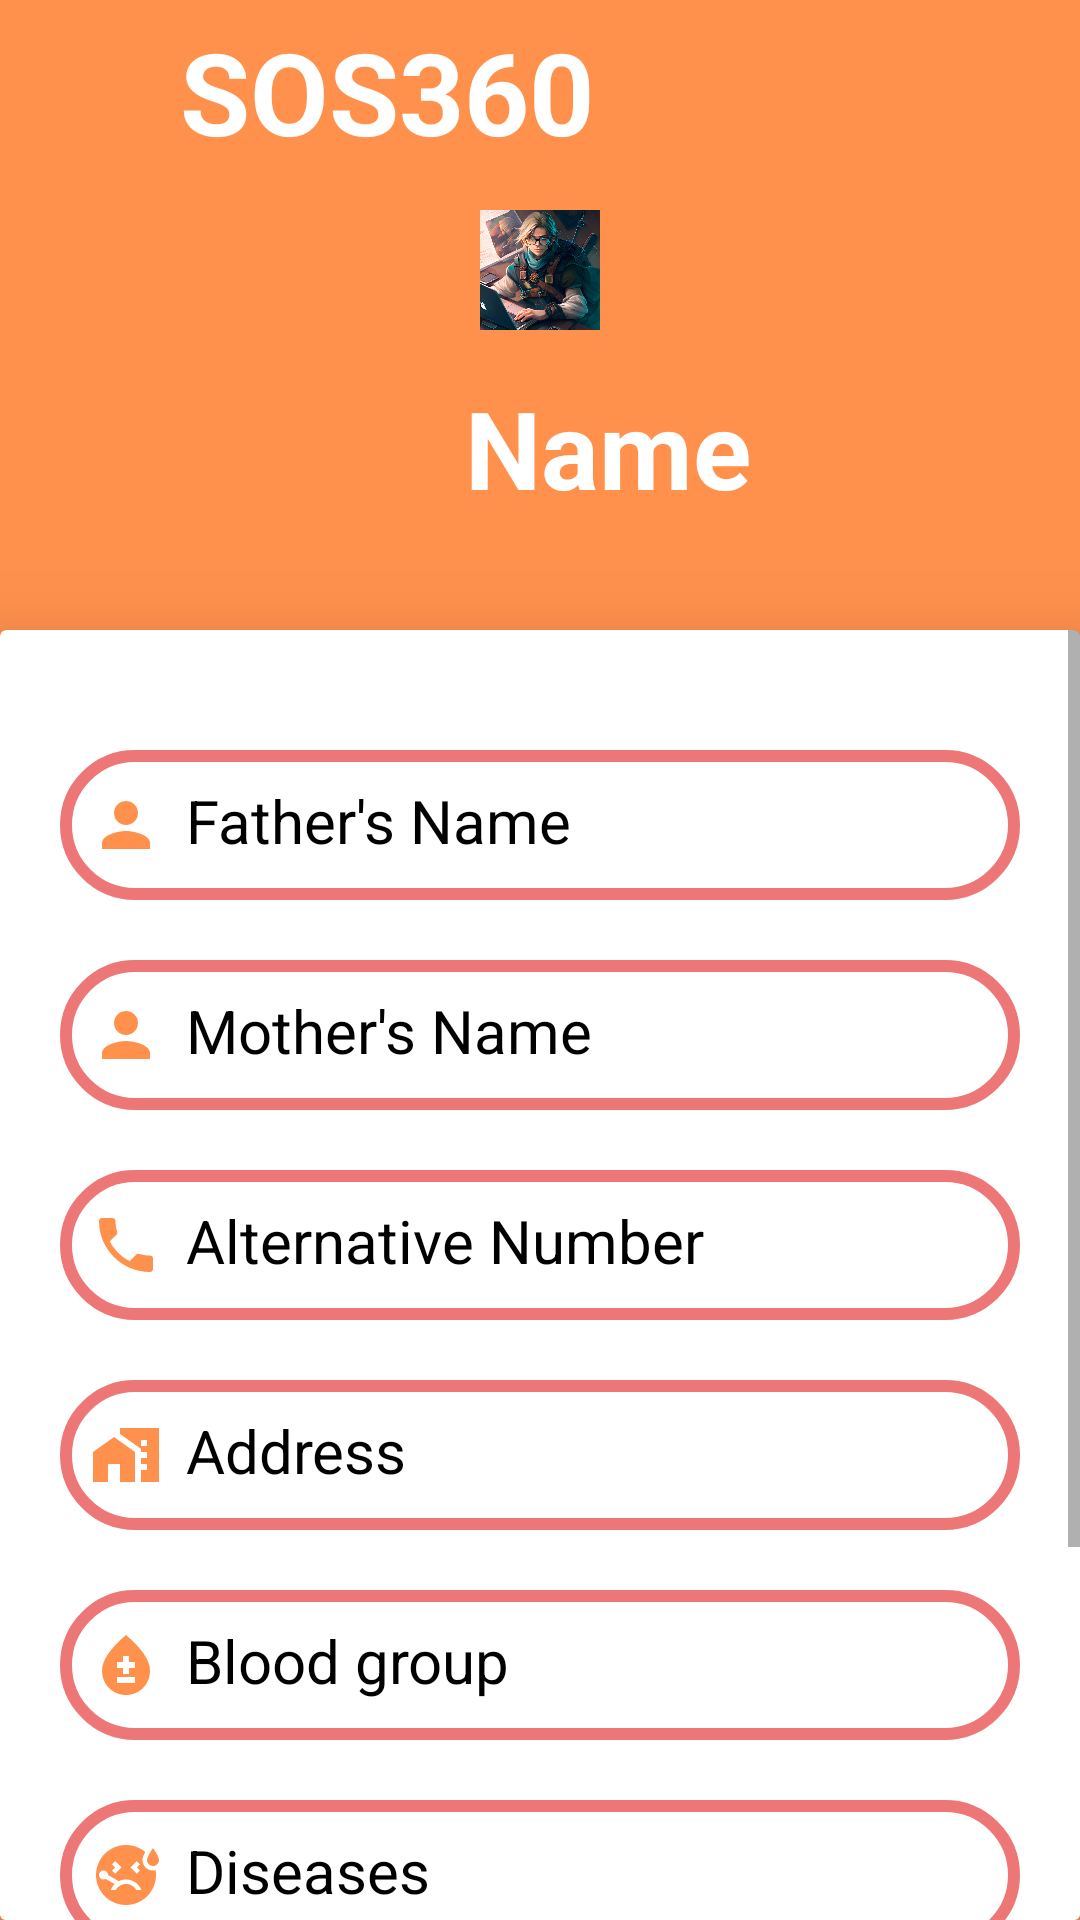

Screen size 1080 × 1920. Icon name, then its center in pixels as (x=x, y=y):
rndimg: (x=540, y=270)
